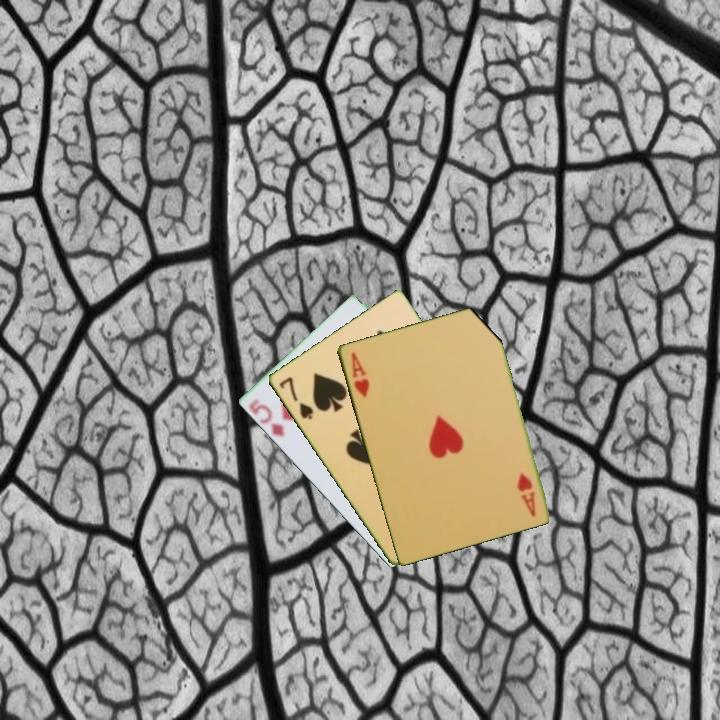5d: (245, 395, 287, 440)
7s: (275, 373, 316, 422)
Ah: (347, 348, 372, 400), (515, 470, 538, 520)
